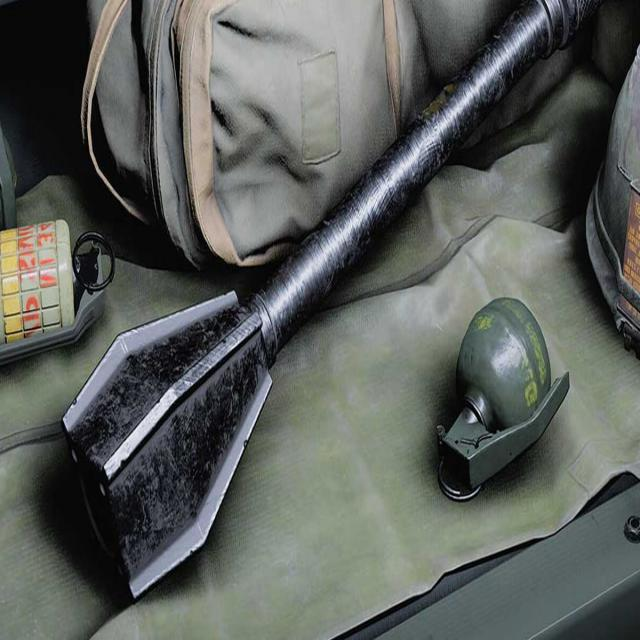mace: (62, 1, 605, 602)
